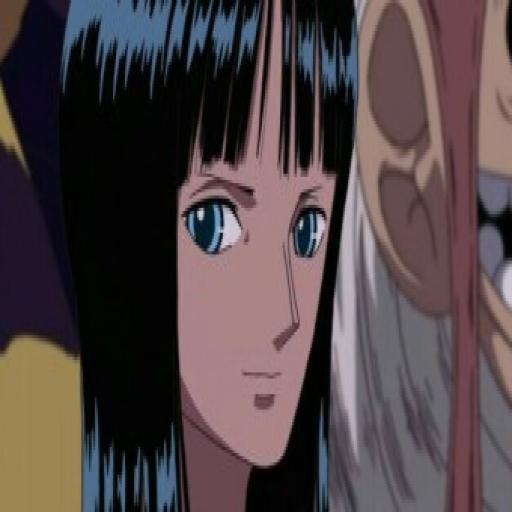NicoRobin: (56, 0, 346, 490)
